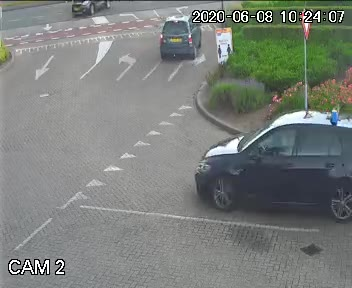car: (178, 85, 352, 225), (147, 15, 206, 70)
